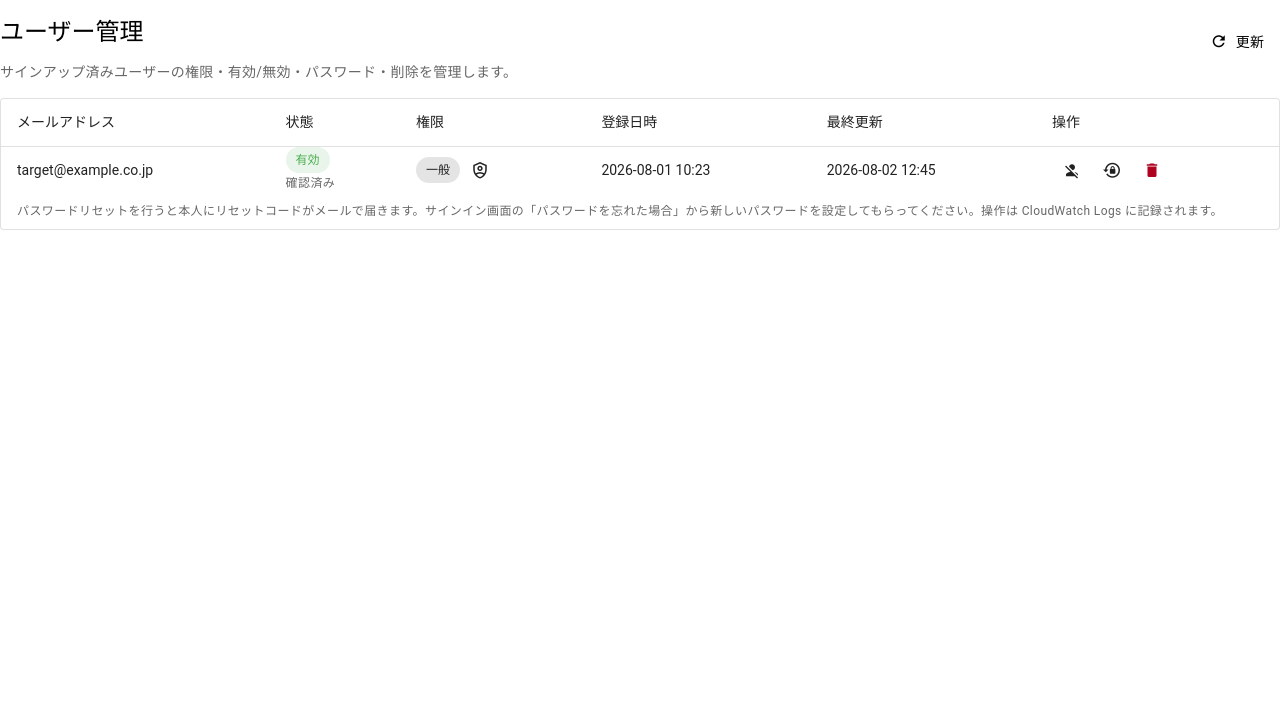
Test: UsersView › 削除は取り消せないことを明記する
Step 1. Click the 5th button → (1152, 170), box 1132,150 -> 1172,190
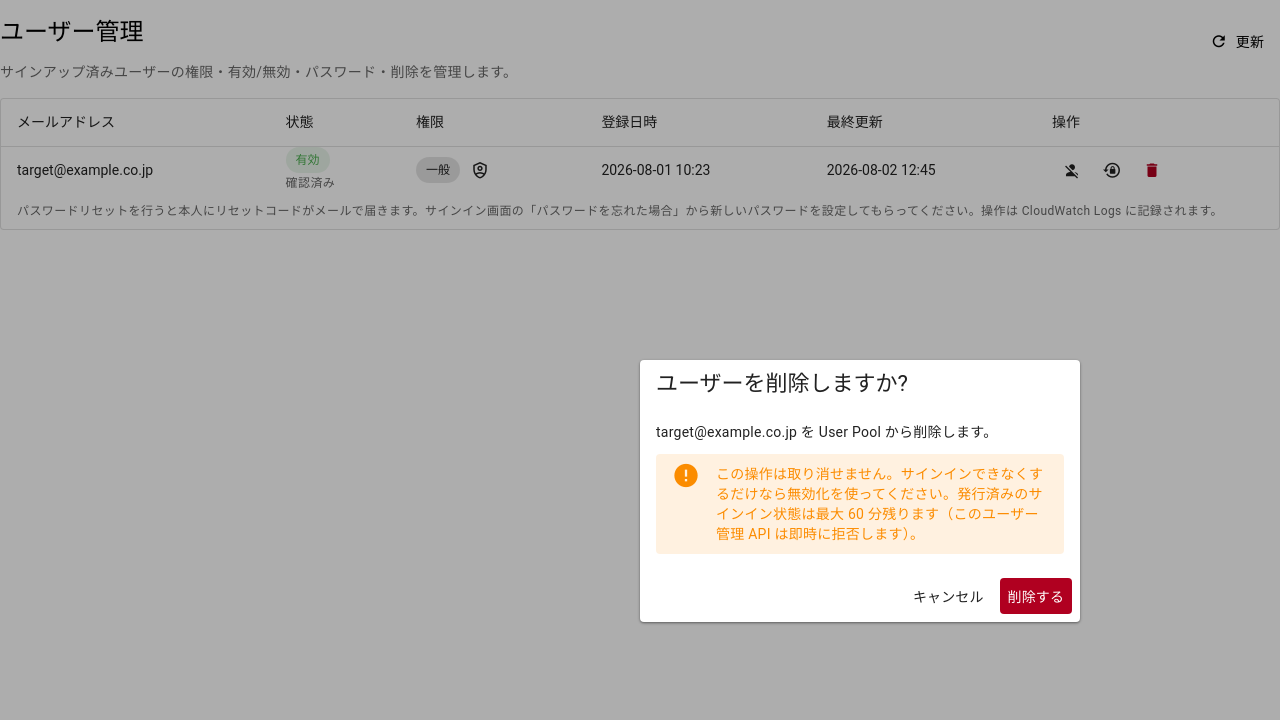
expect the text "この操作は取り消せません" is shown: met, box 716,466 -> 1043,542
